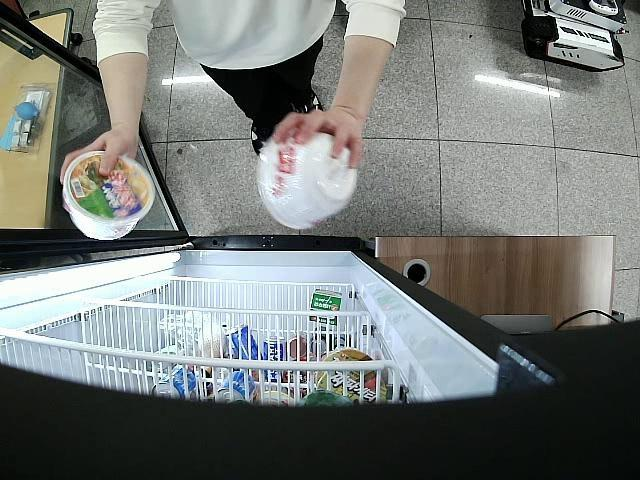09_yukGaeJang: (257, 132, 358, 232), (64, 150, 155, 240)
